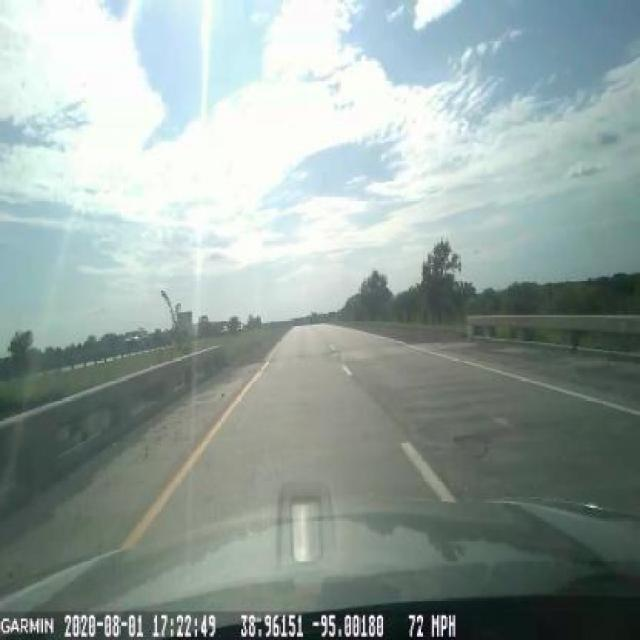Pothole: (451, 422, 495, 472)
